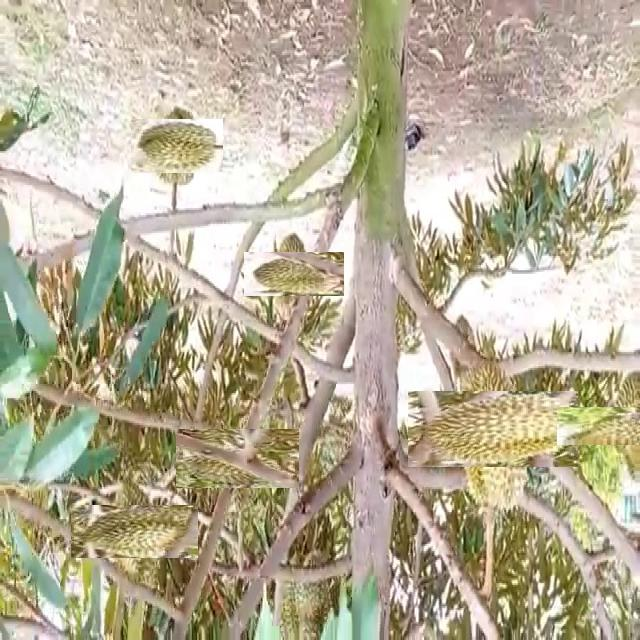durian: (431, 367, 554, 491), (192, 412, 283, 503), (89, 486, 179, 577), (275, 551, 340, 640), (140, 110, 213, 183), (257, 238, 330, 310), (580, 385, 640, 468)
